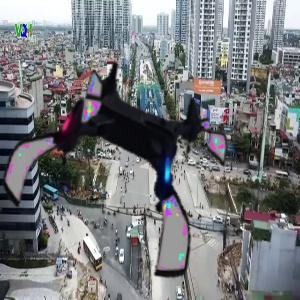drone: (1, 52, 230, 281)
